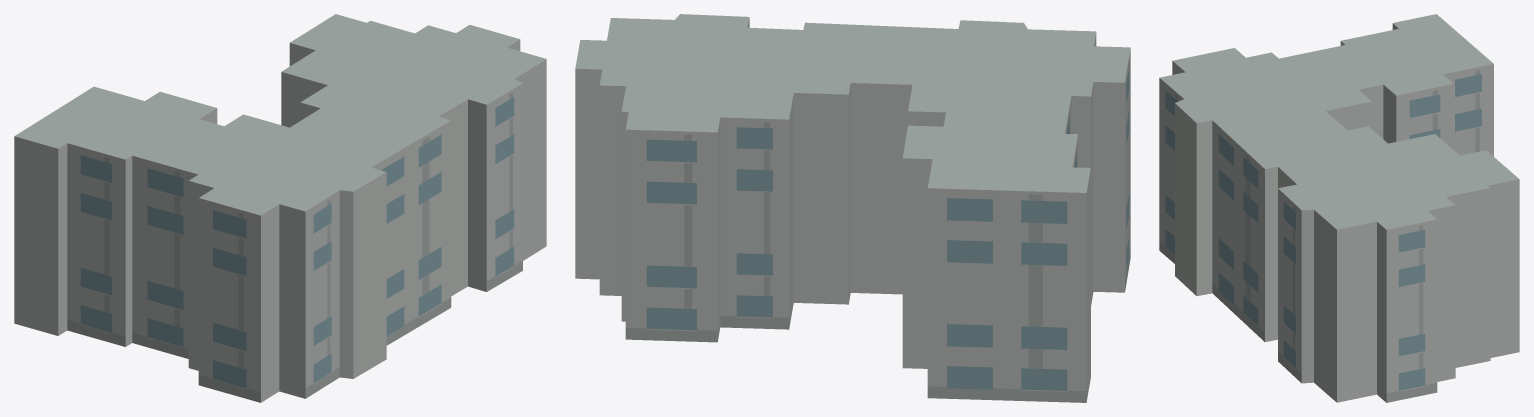
File: residential-fe7e1634-ec43-46ff-a9db-21eeadd988c4.glb
The picture shows the model from 3 angles, left to right: view 1: azimuth 30°, elevation 25°; view 2: azimuth 150°, elevation 25°; view 3: azimuth 270°, elevation 25°; orthographic projection. The views are drawn at different scales.
Parts seen in each view (by area): view 1: residential-fe7e1634-ec43-46ff-a9db-21eeadd988c4.tmp; view 2: residential-fe7e1634-ec43-46ff-a9db-21eeadd988c4.tmp; view 3: residential-fe7e1634-ec43-46ff-a9db-21eeadd988c4.tmp.
Part boxes in pixels (x1,y1,x2,y2): residential-fe7e1634-ec43-46ff-a9db-21eeadd988c4.tmp: (14, 14, 546, 402); residential-fe7e1634-ec43-46ff-a9db-21eeadd988c4.tmp: (575, 14, 1130, 402); residential-fe7e1634-ec43-46ff-a9db-21eeadd988c4.tmp: (1159, 14, 1519, 402).
Size of the model in its own units: 40.81 by 15.25 by 28.76.
